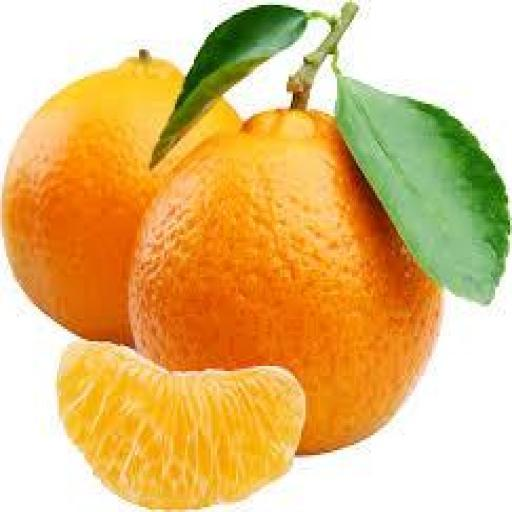orange: (131, 112, 440, 452), (3, 55, 240, 343)
